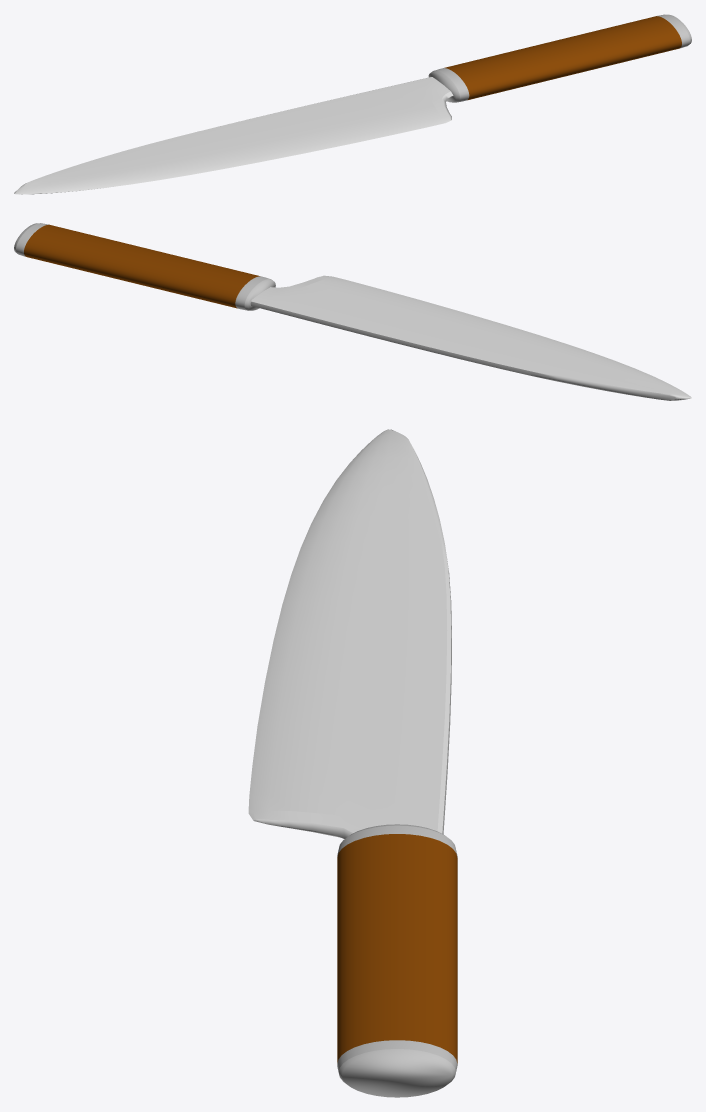
The model's file is knife2.fbx.
3 views of the same model, one above another, from view 1: azimuth 30°, elevation 25°; view 2: azimuth 150°, elevation 25°; view 3: azimuth 270°, elevation 25° (orthographic). The views are drawn at different scales.
Visible parts, largest first — view 1: Cylinder.001; view 2: Cylinder.001; view 3: Cylinder.001.
Part boxes in pixels (x1=…): Cylinder.001: x1=14, y1=14, x2=691, y2=194; Cylinder.001: x1=14, y1=223, x2=691, y2=400; Cylinder.001: x1=248, y1=429, x2=457, y2=1097.
Size of the model in its own units: 1611 by 56.48 by 220.
